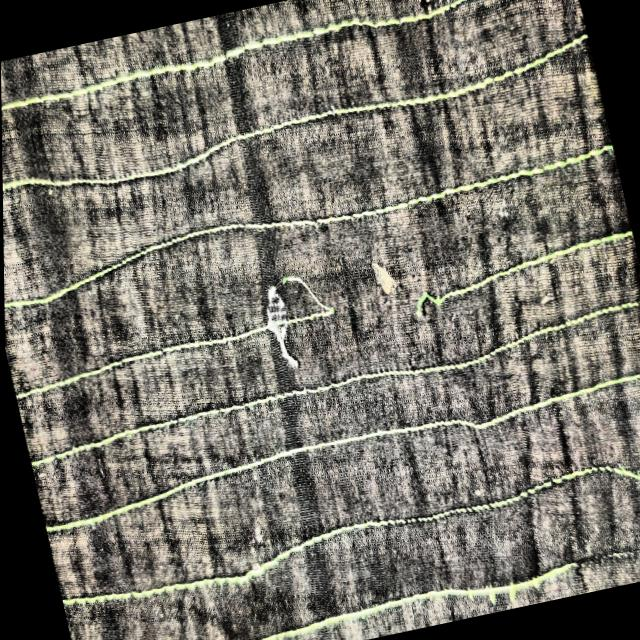Stitch: (234, 252, 359, 391), (353, 227, 457, 356)
